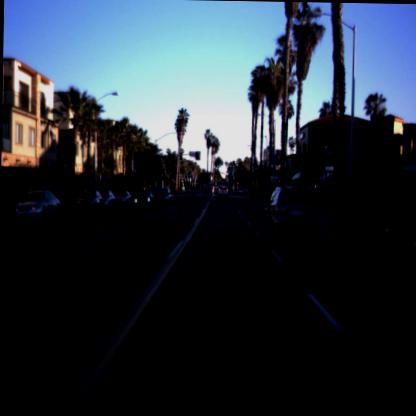trafficlight: (216, 159, 220, 167), (232, 160, 234, 168)
